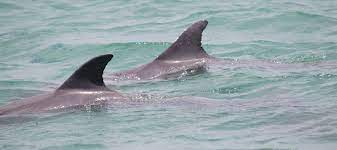fin: (121, 16, 298, 90)
